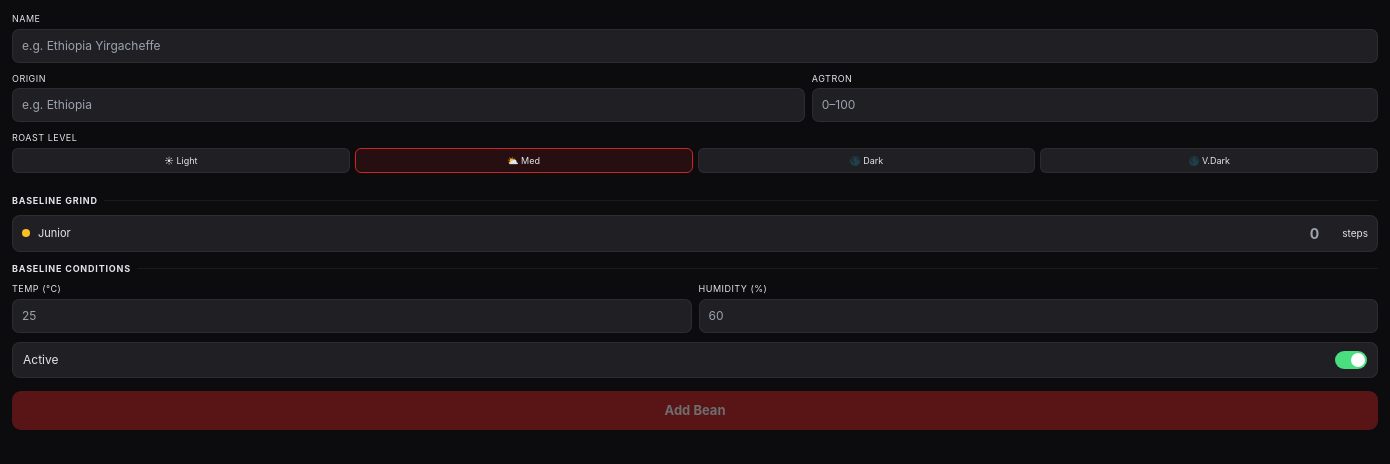
Scenario: BeanForm — validation › shows agtron error on blur when value is out of range
Type "200" into the number field labelled "Agtron".
click(1095, 105); type("200")  # box [812, 88, 1378, 122]
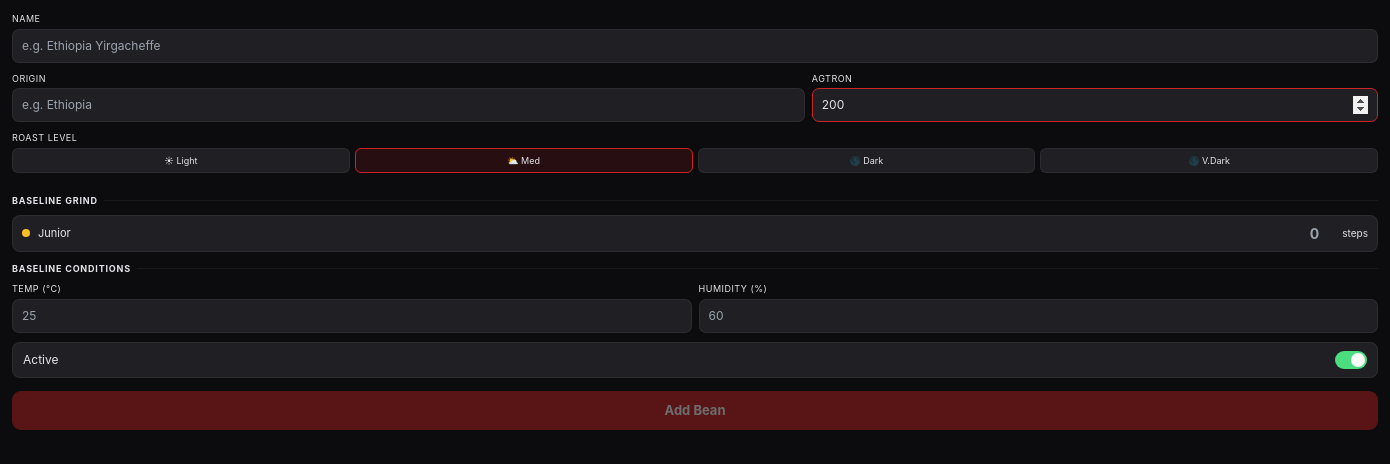
Leave the number field labelled "Agtron", box [812, 88, 1378, 122]
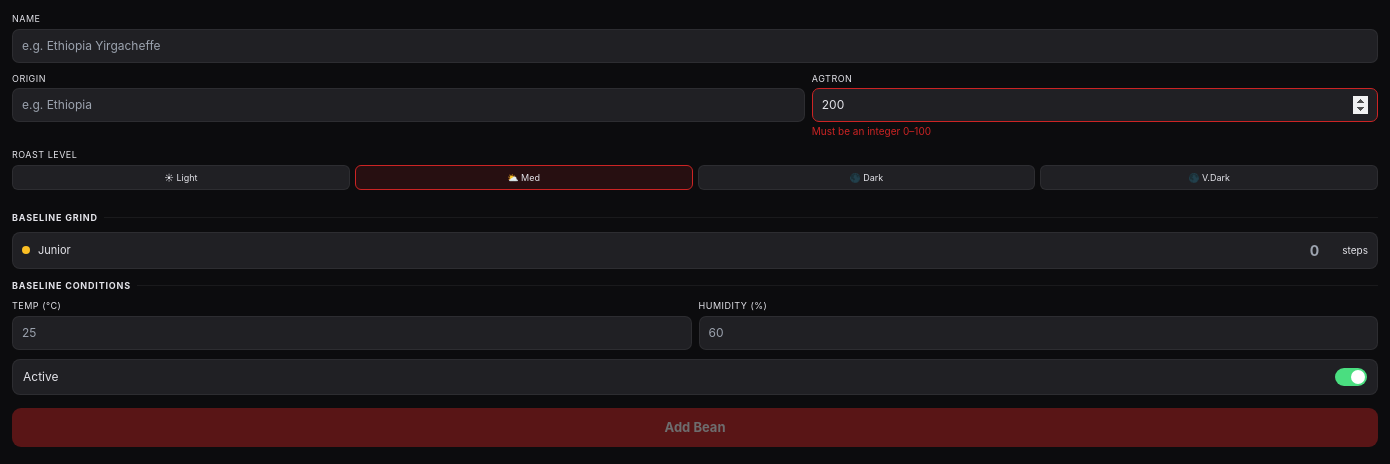
Result: the text "Must be an integer 0–100" is shown at [812, 125, 931, 137]
